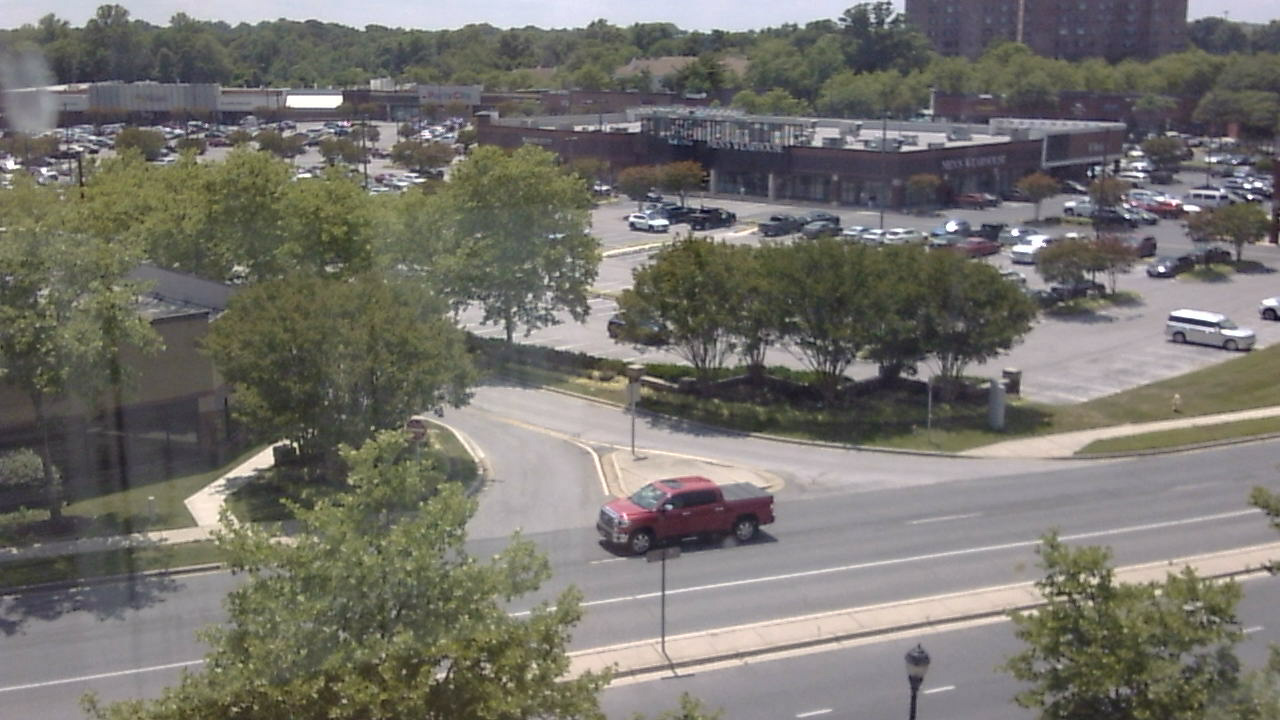Truck: (582, 470, 802, 565)
